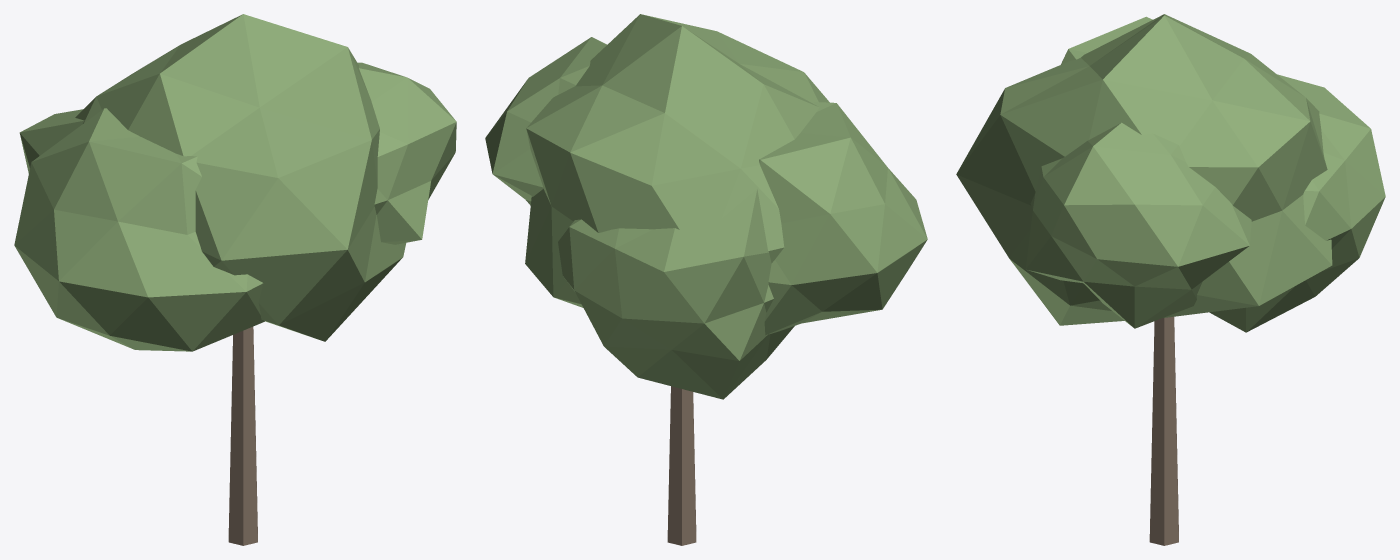
File: HK_Tree_Round.glb
3 renders of one model, left to right at view 1: azimuth 30°, elevation 25°; view 2: azimuth 150°, elevation 25°; view 3: azimuth 270°, elevation 25°, orthographic. The views are drawn at different scales.
Parts seen in each view (by area): view 1: HK_Tree_Round; view 2: HK_Tree_Round; view 3: HK_Tree_Round.
Part boxes in pixels (<box>): HK_Tree_Round: <box>14,14,456,545</box>; HK_Tree_Round: <box>485,14,927,545</box>; HK_Tree_Round: <box>956,14,1385,545</box>.
Bounding box in the file's own units: 5.62 × 6.84 × 5.08.
